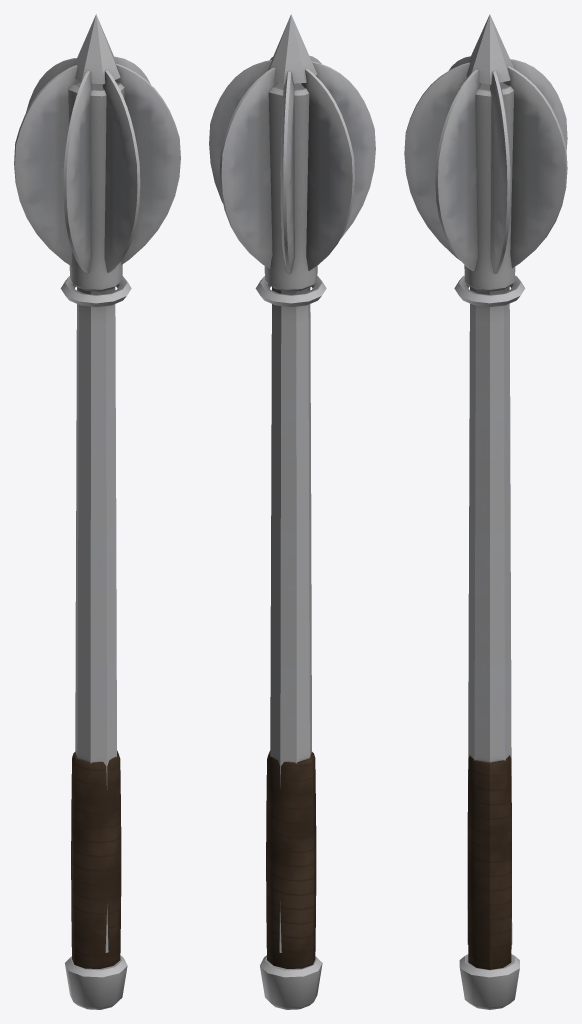
Rendered from mace.glb.
The picture shows the model from 3 angles, left to right: view 1: azimuth 30°, elevation 25°; view 2: azimuth 150°, elevation 25°; view 3: azimuth 270°, elevation 25°; orthographic projection.
Visible parts, largest first — view 1: SM_V_mace; view 2: SM_V_mace; view 3: SM_V_mace.
Part boxes in pixels (bbox=[...]): SM_V_mace: bbox=[14, 14, 180, 1009]; SM_V_mace: bbox=[209, 14, 375, 1009]; SM_V_mace: bbox=[404, 14, 567, 1009].
Bounding box in the file's own units: 0.1272 × 0.8275 × 0.124.
Materials: 1 (1 with a texture image).
